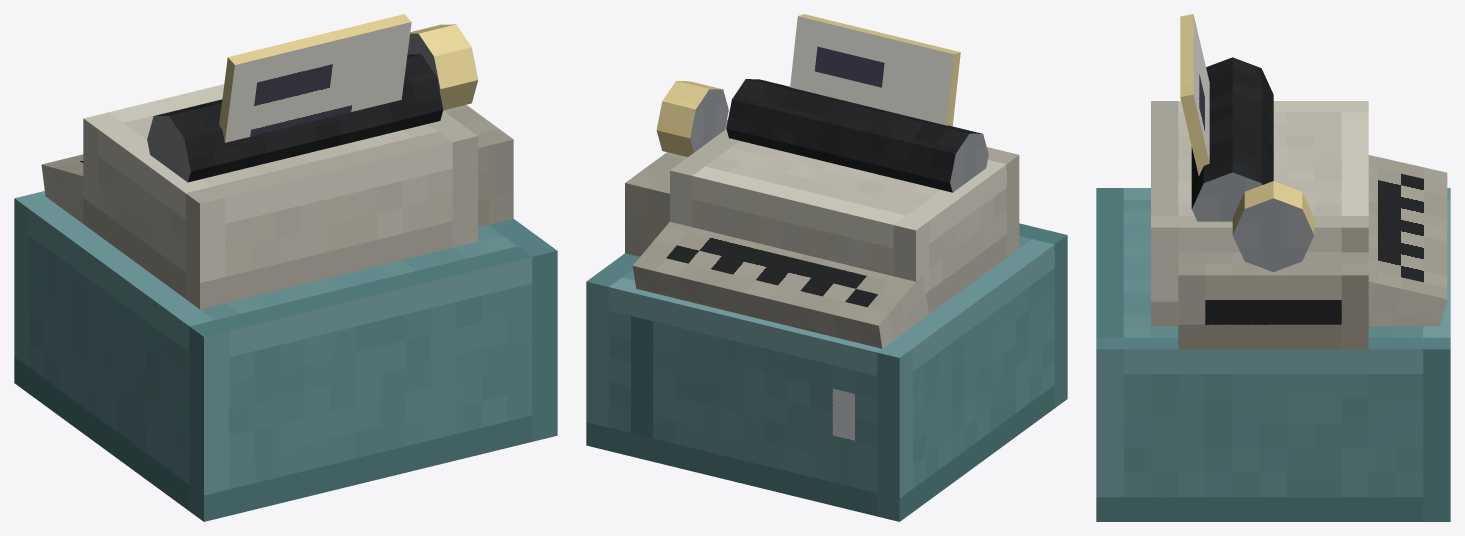
Rendered from era2_typewriter_double_sided.obj.
3 renders of one model, left to right at view 1: azimuth 30°, elevation 25°; view 2: azimuth 150°, elevation 25°; view 3: azimuth 270°, elevation 25°, orthographic. The views are drawn at different scales.
Parts seen in each view (by area): view 1: era2_typewriter; view 2: era2_typewriter; view 3: era2_typewriter.
Part boxes in pixels (bbox=[...]): era2_typewriter: bbox=[14, 14, 557, 521]; era2_typewriter: bbox=[586, 14, 1067, 521]; era2_typewriter: bbox=[1096, 14, 1450, 521].
Size of the model in its own units: 0.875 by 0.9659 by 0.8125.
